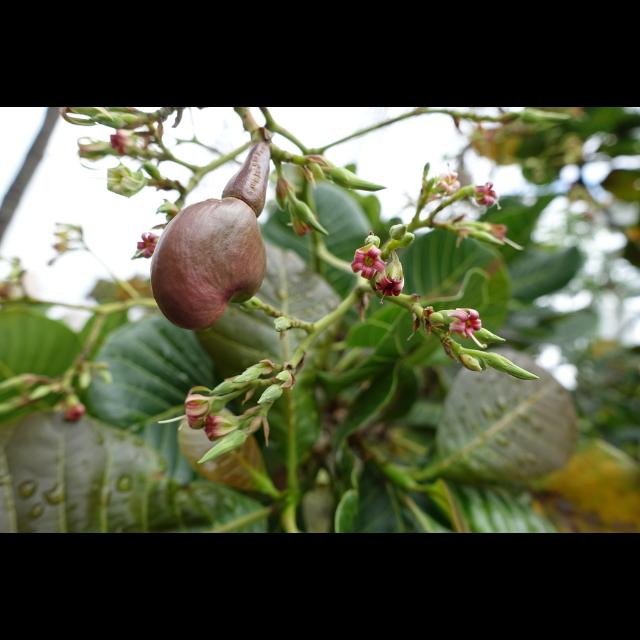Flower: (430, 308, 490, 350), (374, 251, 406, 309), (442, 180, 500, 212), (184, 394, 220, 434), (427, 163, 463, 199), (350, 249, 388, 277), (107, 130, 143, 158), (203, 414, 239, 436), (60, 396, 86, 422)
